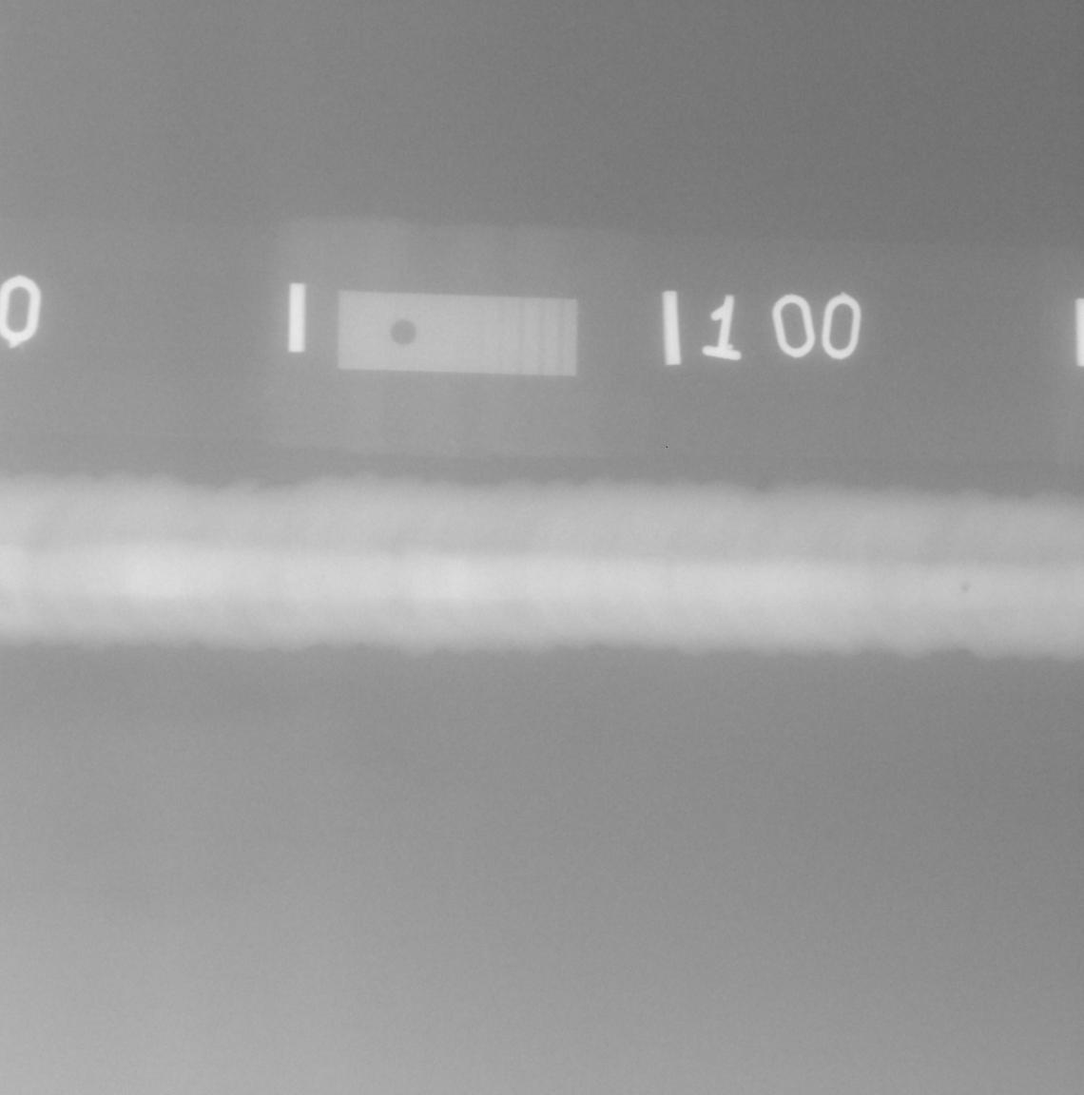Pore/Porosity: (960, 585, 969, 594)
Reference Standard 1: (337, 291, 577, 377)
